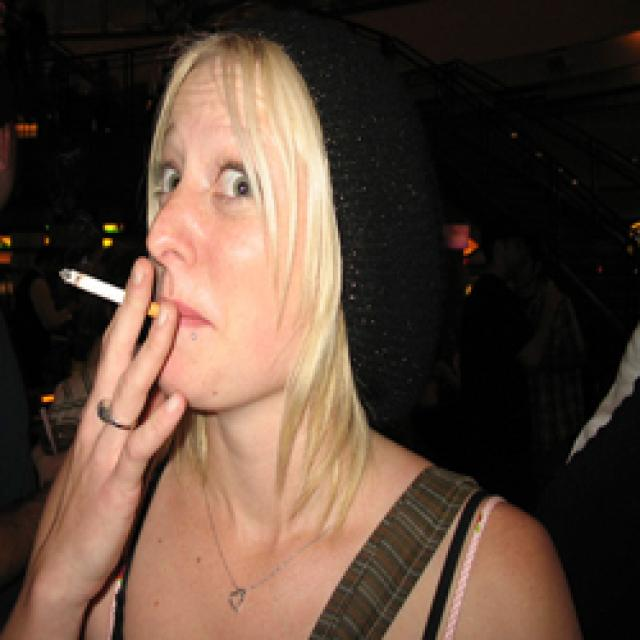Smooking: (56, 263, 130, 305)
